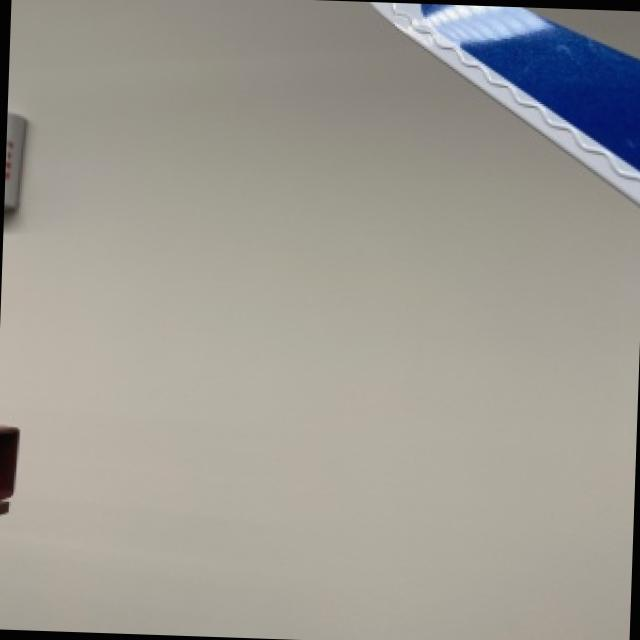healthy: (6, 111, 26, 207)
